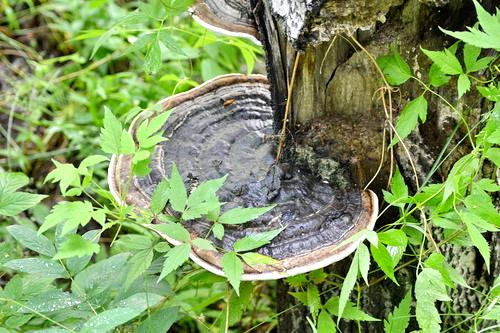Ganoderma - Fruit Body: (106, 71, 379, 280)
